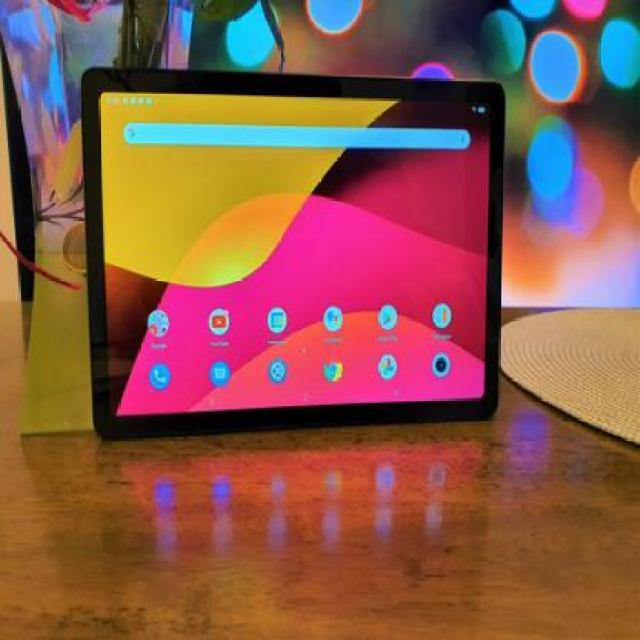tablet: (76, 61, 517, 428)
